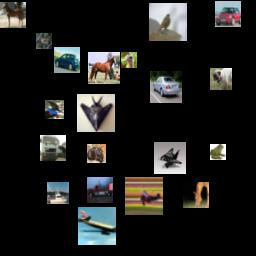airplane: (125, 177, 163, 215), (78, 207, 116, 245), (77, 94, 115, 132), (154, 142, 186, 174)
automobile: (150, 71, 182, 103), (215, 1, 241, 27), (54, 47, 80, 73)
bird: (149, 3, 187, 41), (45, 100, 64, 119), (121, 52, 137, 68), (36, 33, 52, 49)
cat: (87, 144, 106, 163)
dog: (210, 68, 232, 90)
frog: (210, 144, 226, 160)
ship: (47, 182, 69, 204)
truck: (40, 135, 66, 161), (87, 177, 113, 203)
